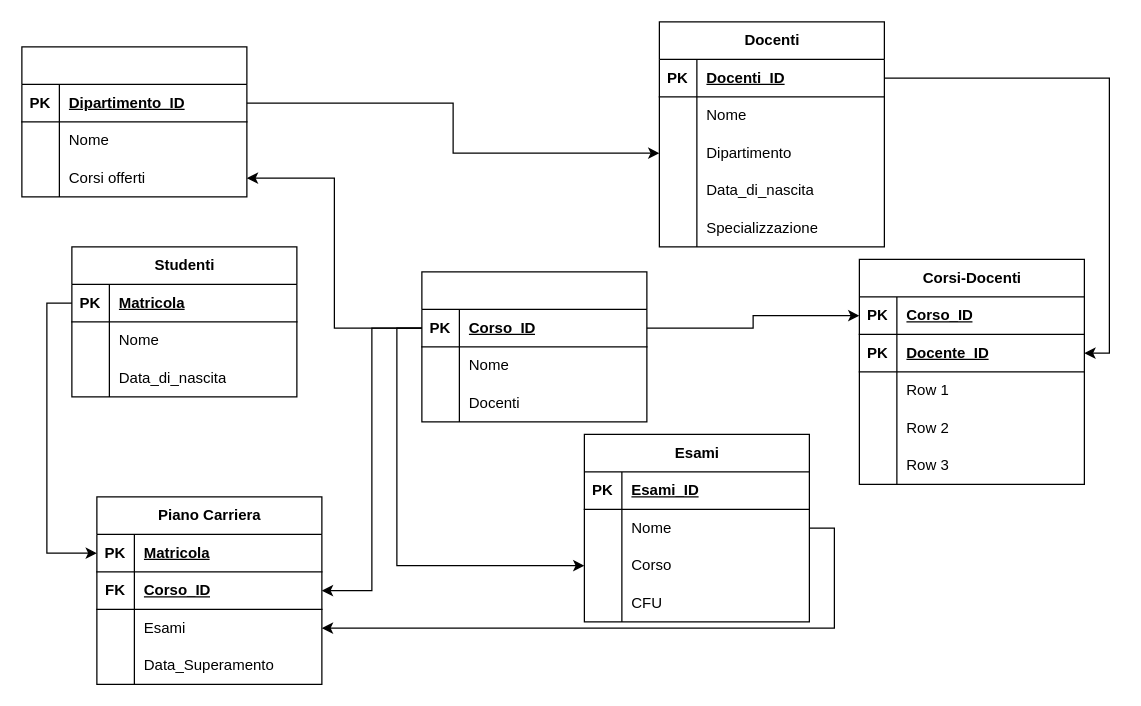
The diagram is 1141 pixels wide and 706 high, and some of its shapes have lost their labels. Each missing label, with the box of its shape:
Corsi: (421, 271, 647, 422)
Dipartimenti: (21, 46, 247, 197)
